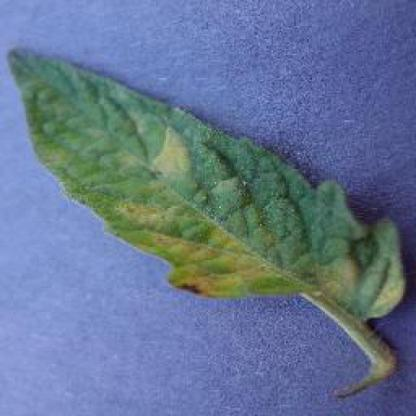Tomato_Leaf_Mold: (9, 47, 402, 322)
